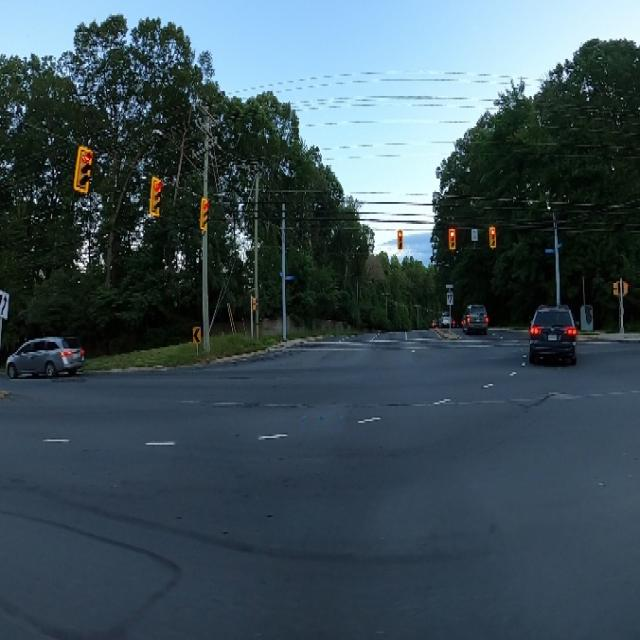car: (5, 313, 85, 389), (526, 288, 582, 372), (457, 293, 491, 344)
